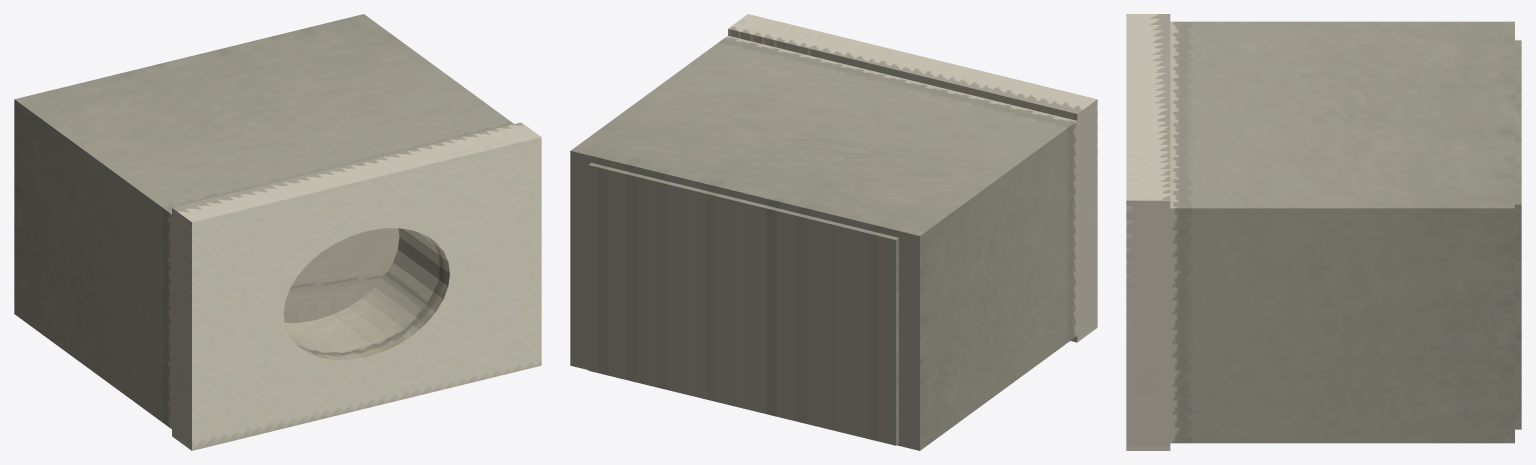
The model's file is pz_counter_white_floor__sink_inset_oval.obj.
The picture shows the model from 3 angles, left to right: view 1: azimuth 30°, elevation 25°; view 2: azimuth 150°, elevation 25°; view 3: azimuth 270°, elevation 25°; orthographic projection. The views are drawn at different scales.
Size of the model in its own units: 1 by 0.6266 by 0.895.
Materials: 1 (1 with a texture image).
